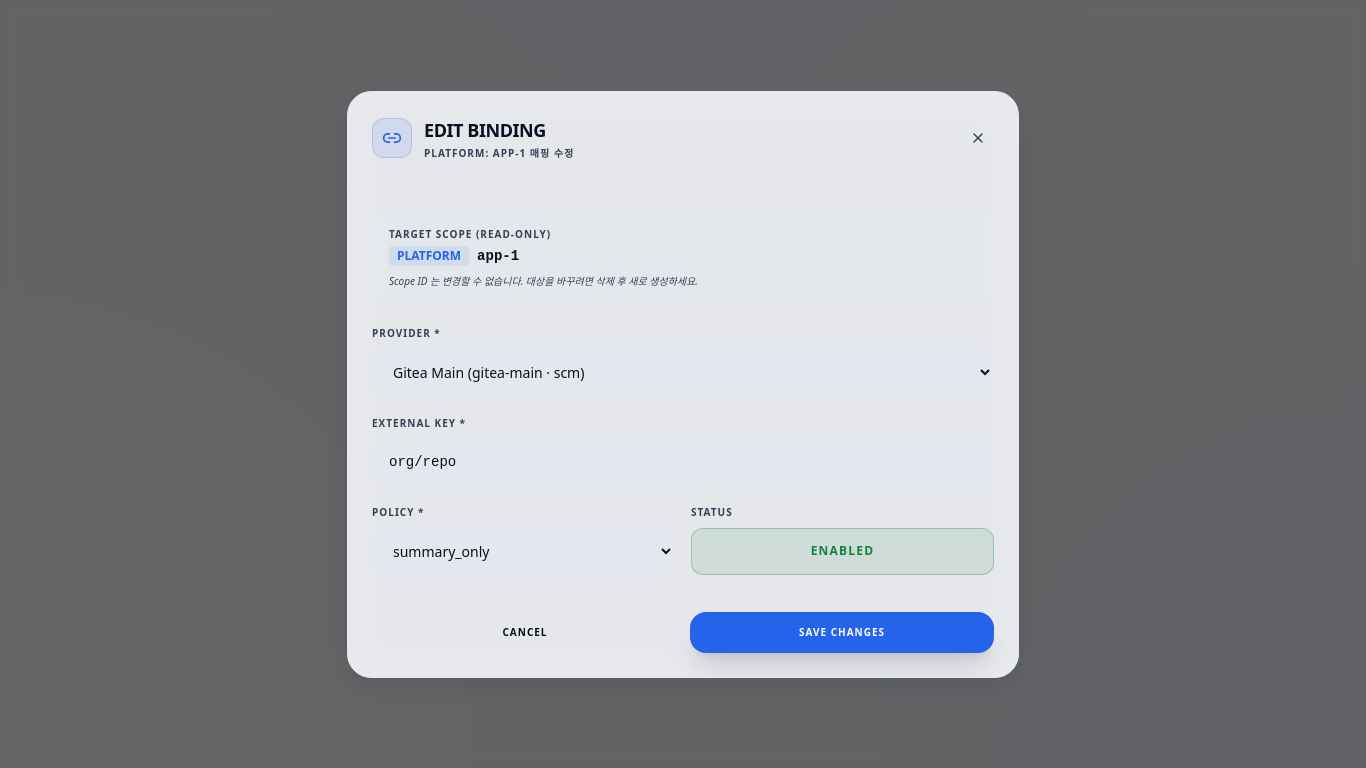
Scenario: EditBindingModal › shows generic error message for non-API errors
The width and height of the screenshot is (1366, 768).
Click the button "Save Changes" at point(842, 632), box [690,612,994,652]
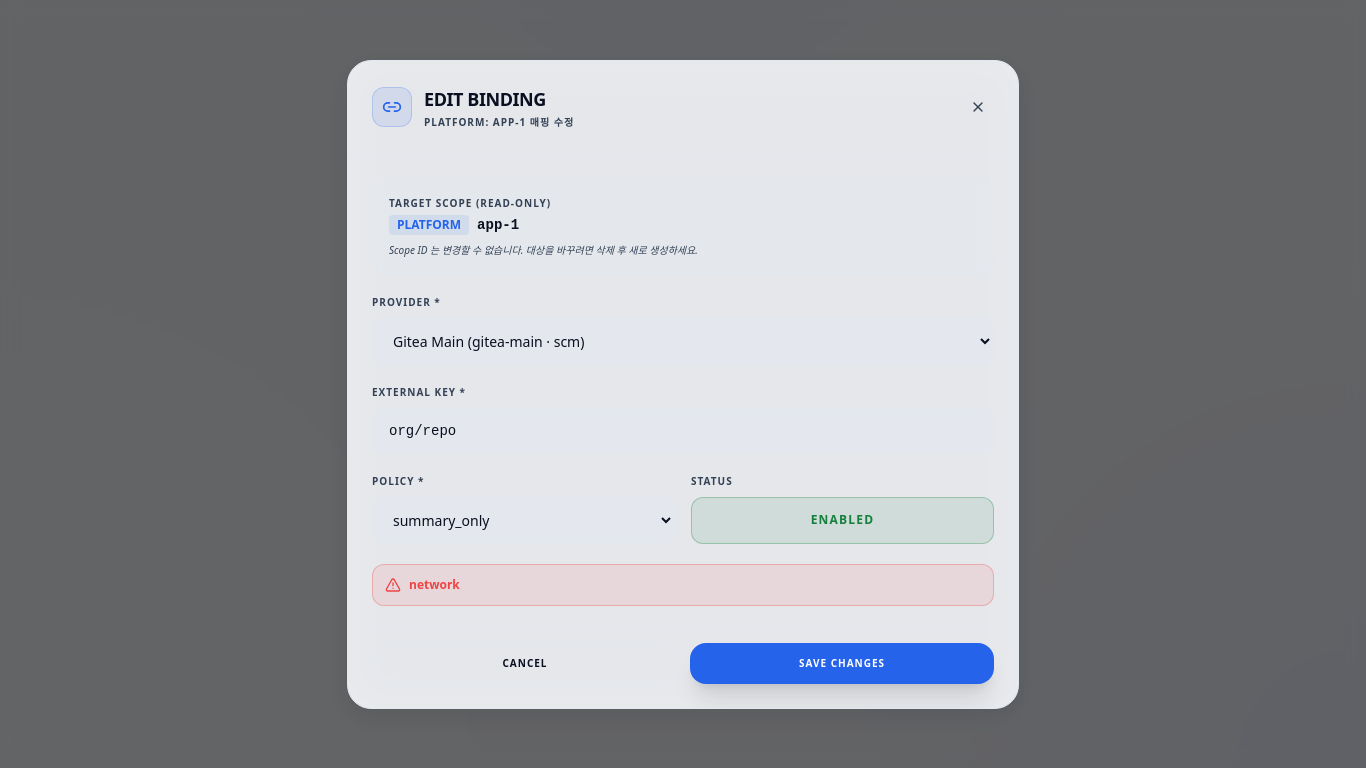
Now the text "network" is shown, box [372,564,994,606]
